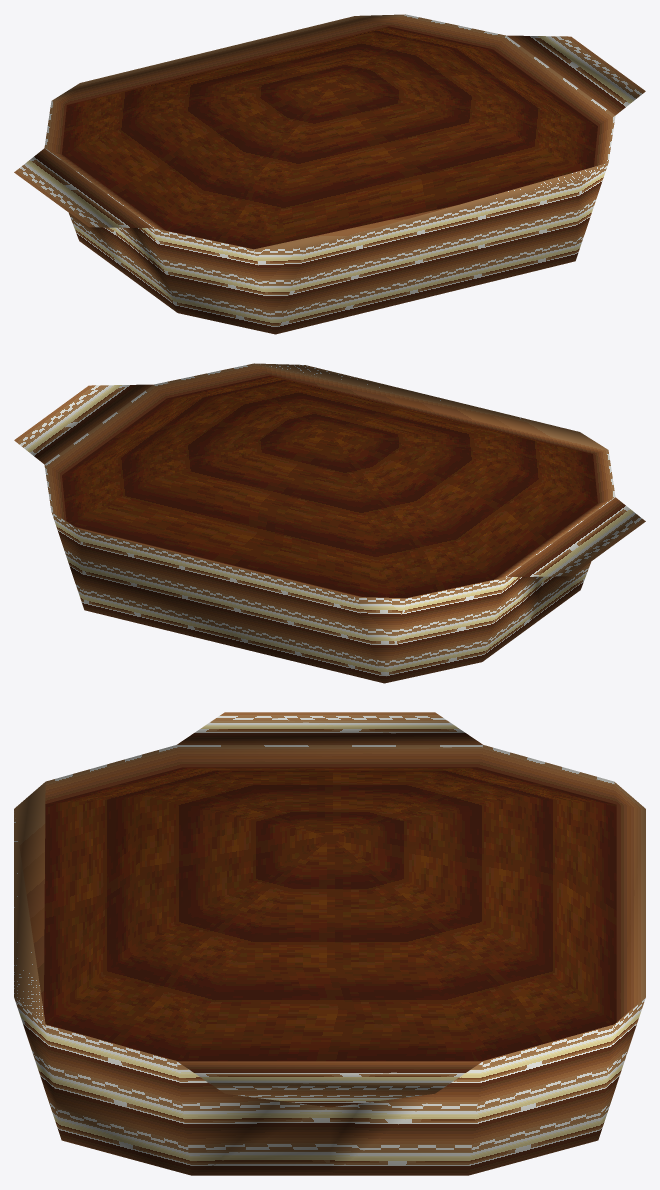
Rendered from 1148ucc_mis_pie0.gltf.
3 renders of one model, top to bottom at view 1: azimuth 30°, elevation 25°; view 2: azimuth 150°, elevation 25°; view 3: azimuth 270°, elevation 25°, orthographic. The views are drawn at different scales.
Visible parts, largest first — view 1: 1148ucc_mis_pie0; view 2: 1148ucc_mis_pie0; view 3: 1148ucc_mis_pie0.
Boxes of the visible parts, left/top/right/bottom form: 1148ucc_mis_pie0: left=14, top=14, right=645, bottom=334; 1148ucc_mis_pie0: left=14, top=363, right=645, bottom=683; 1148ucc_mis_pie0: left=14, top=712, right=645, bottom=1175.
Size of the model in its own units: 0.7397 by 0.2183 by 0.5178.
4 materials, 4 textured.
